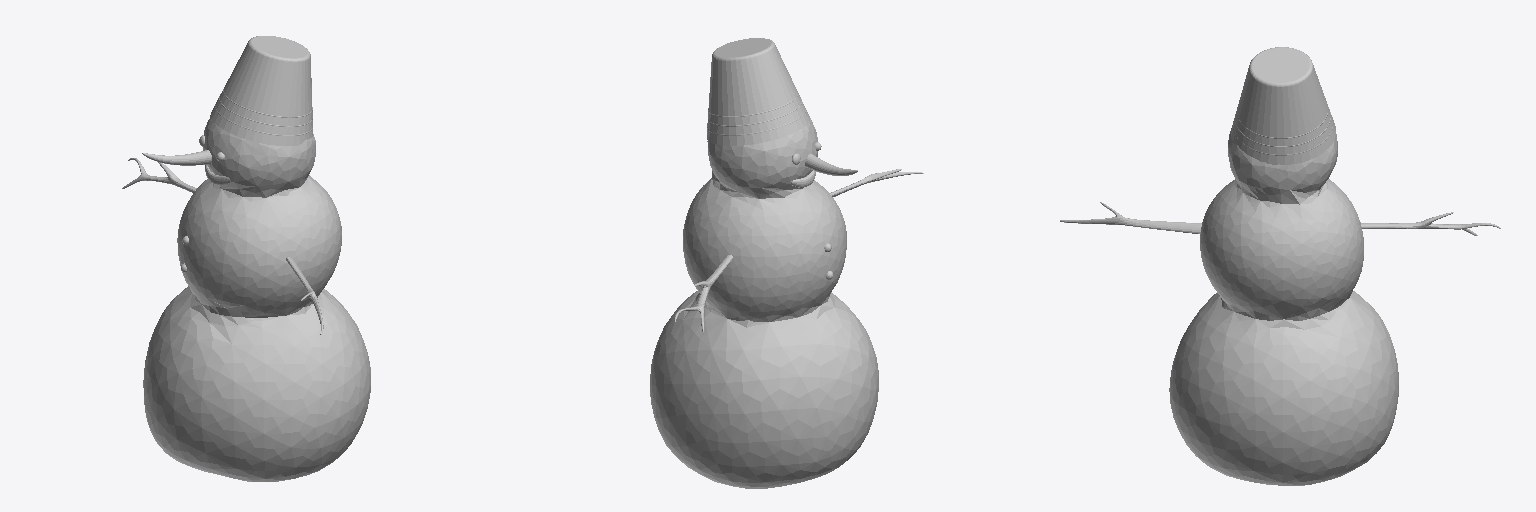
File: snowman.obj
3 renders of one model, left to right at view 1: azimuth 30°, elevation 25°; view 2: azimuth 150°, elevation 25°; view 3: azimuth 270°, elevation 25°, orthographic.
Visible parts, largest first — view 1: GeoSphere01; view 2: GeoSphere01; view 3: GeoSphere01.
Boxes of the visible parts, x1,y1,x2,y2 form: GeoSphere01: [122, 36, 370, 481]; GeoSphere01: [650, 38, 923, 488]; GeoSphere01: [1060, 47, 1500, 485].
Bounding box in the file's own units: 81.67 × 160 × 154.